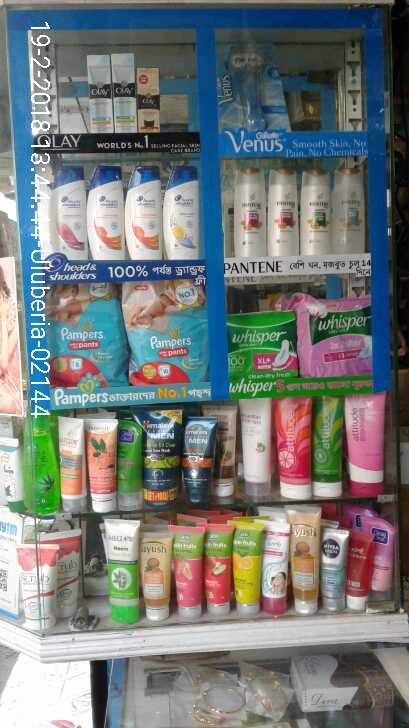venus: (226, 42, 276, 134)
